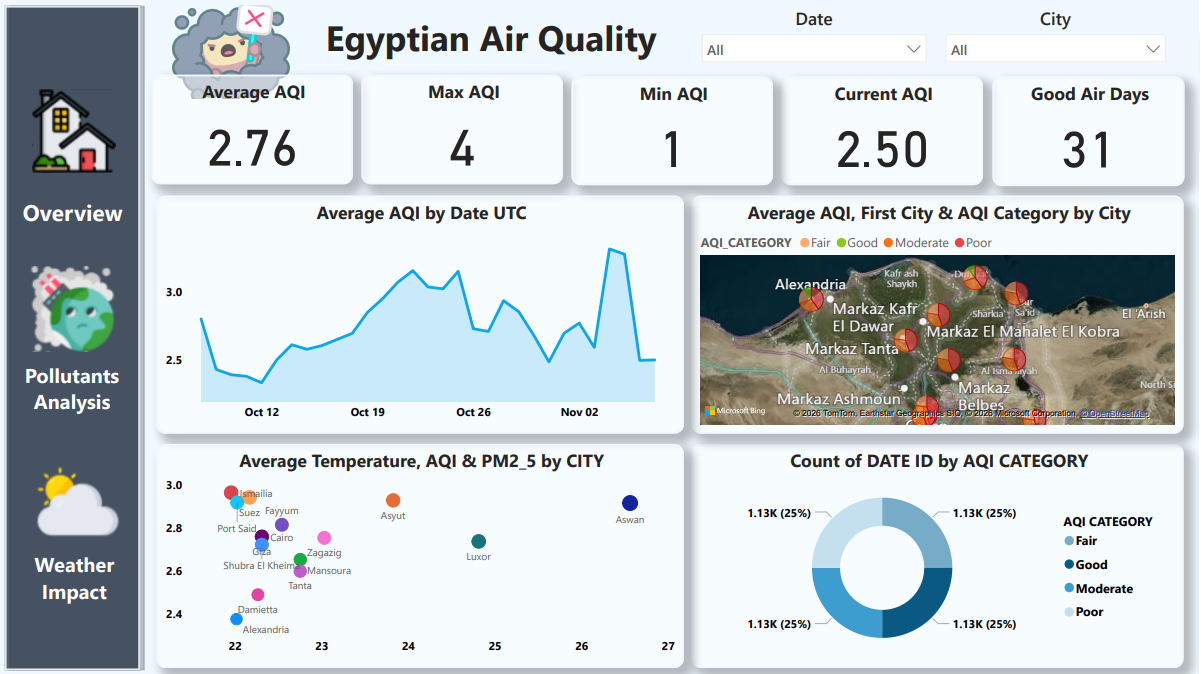

Layout of this report page (visuals, bound fields, positions):
{"tool":"powerbi","page":{"name":"Overview","canvas":[1280,720],"ordinal":1},"visuals":[{"type":"image","box":[180,0,133.8,110],"z":0},{"type":"textbox","box":[342.5,8.8,407.5,63.8],"z":1000},{"type":"shape","box":[0,0,155.4,719.6],"z":2000},{"type":"actionButton","box":[23.2,64.3,108.9,132.1],"z":3000},{"type":"actionButton","box":[26.8,489.3,103.6,92.9],"z":4000},{"type":"textbox","box":[19.6,203.6,117.9,53.6],"z":5000},{"type":"textbox","box":[21.4,582.1,117.9,73.2],"z":6000},{"type":"actionButton","box":[21.4,283.9,114.3,96.4],"z":7000},{"type":"card","title":"Average AQI","fields":{"Values":["Measures .Avg_AQI"]},"box":[161.7,79,215,116.7],"z":8000},{"type":"card","title":"Max AQI","fields":{"Values":["Measures .Max_AQI"]},"box":[385.8,79,215,116.7],"z":9000},{"type":"card","title":"Current AQI","fields":{"Values":["Measures .Current_AQI"]},"box":[834.2,80.7,215,116.7],"z":10000},{"type":"card","title":"Good Air Days","fields":{"Values":["Measures .Good_Air_Days"]},"box":[1058.8,81.2,205,116.2],"z":11000},{"type":"card","title":"Min AQI","fields":{"Values":["Measures .Min_AQI"]},"box":[610,80.7,215,116.7],"z":12000},{"type":"donutChart","title":"Count of DATE ID by AQI CATEGORY","fields":{"Category":["FACT_AIR_QUALITY.AQI_CATEGORY"],"Y":["CountNonNull(DIM_DATE.DATE_ID)"]},"box":[738.3,473.3,525,238.3],"z":13000},{"type":"map","title":"Average AQI, First City & AQI Category by City","fields":{"Size":["Measures .Avg_AQI"],"Category":["DIM_LOCATION.CITY"],"Series":["FACT_AIR_QUALITY.AQI_CATEGORY"]},"box":[738.3,208.3,525,253.3],"z":14000},{"type":"areaChart","title":"Average AQI by Date UTC","fields":{"Category":["DIM_DATE.DATE_UTC.Variation.Date Hierarchy.Year","DIM_DATE.DATE_UTC.Variation.Date Hierarchy.Quarter","DIM_DATE.DATE_UTC.Variation.Date Hierarchy.Month","DIM_DATE.DATE_UTC.Variation.Date Hierarchy.Day"],"Y":["Measures .Avg_AQI"]},"box":[166.7,208.3,563.3,253.3],"z":15000},{"type":"scatterChart","title":"Average Temperature, AQI & PM2_5 by CITY","fields":{"Y":["Measures .Avg_AQI"],"X":["Measures .Avg_Temperature"],"Size":["Measures .Avg_PM2_5"],"Category":["DIM_LOCATION.CITY"]},"box":[166.7,473.3,563.3,238.3],"z":16000},{"type":"textbox","box":[18.8,380,117.5,72.5],"z":17000},{"type":"slicer","title":"City","fields":{"Values":["DIM_LOCATION.CITY"]},"box":[998.8,6.2,255,70],"z":18000},{"type":"slicer","title":"Date","fields":{"Values":["DIM_DATE.DATE_UTC.Variation.Date Hierarchy.Year","DIM_DATE.DATE_UTC.Variation.Date Hierarchy.Quarter","DIM_DATE.DATE_UTC.Variation.Date Hierarchy.Month","DIM_DATE.DATE_UTC.Variation.Date Hierarchy.Day"]},"box":[738.8,6.2,260,70],"z":19000}]}

Visuals, with their boxes in screenshot pixels (x1, y1, x2, y2), scaled from the page's 1280x720 canvas onto the 1202x674 screenshot:
image: {"left": 169, "top": 0, "right": 295, "bottom": 103}
textbox: {"left": 322, "top": 8, "right": 704, "bottom": 68}
shape: {"left": 0, "top": 0, "right": 146, "bottom": 673}
actionButton: {"left": 22, "top": 60, "right": 124, "bottom": 184}
actionButton: {"left": 25, "top": 458, "right": 122, "bottom": 545}
textbox: {"left": 18, "top": 191, "right": 129, "bottom": 241}
textbox: {"left": 20, "top": 545, "right": 131, "bottom": 613}
actionButton: {"left": 20, "top": 266, "right": 127, "bottom": 356}
"Average AQI" card: {"left": 152, "top": 74, "right": 354, "bottom": 183}
"Max AQI" card: {"left": 362, "top": 74, "right": 564, "bottom": 183}
"Current AQI" card: {"left": 783, "top": 76, "right": 985, "bottom": 185}
"Good Air Days" card: {"left": 994, "top": 76, "right": 1187, "bottom": 185}
"Min AQI" card: {"left": 573, "top": 76, "right": 775, "bottom": 185}
"Count of DATE ID by AQI CATEGORY" donutChart: {"left": 693, "top": 443, "right": 1186, "bottom": 666}
"Average AQI, First City & AQI Category by City" map: {"left": 693, "top": 195, "right": 1186, "bottom": 432}
"Average AQI by Date UTC" areaChart: {"left": 157, "top": 195, "right": 686, "bottom": 432}
"Average Temperature, AQI & PM2_5 by CITY" scatterChart: {"left": 157, "top": 443, "right": 686, "bottom": 666}
textbox: {"left": 18, "top": 356, "right": 128, "bottom": 424}
"City" slicer: {"left": 938, "top": 6, "right": 1177, "bottom": 71}
"Date" slicer: {"left": 694, "top": 6, "right": 938, "bottom": 71}
